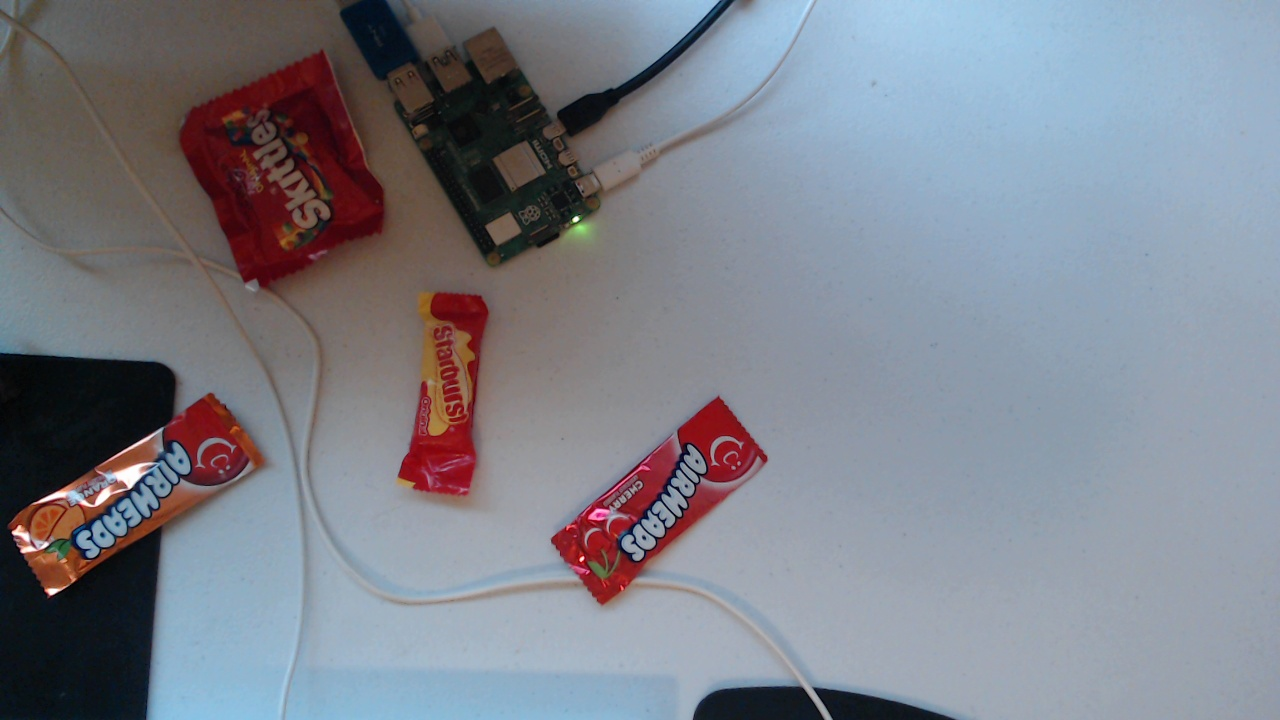airheads: (547, 391, 790, 615), (7, 399, 264, 608)
skittles: (153, 67, 394, 292)
starbust: (404, 274, 495, 509)
